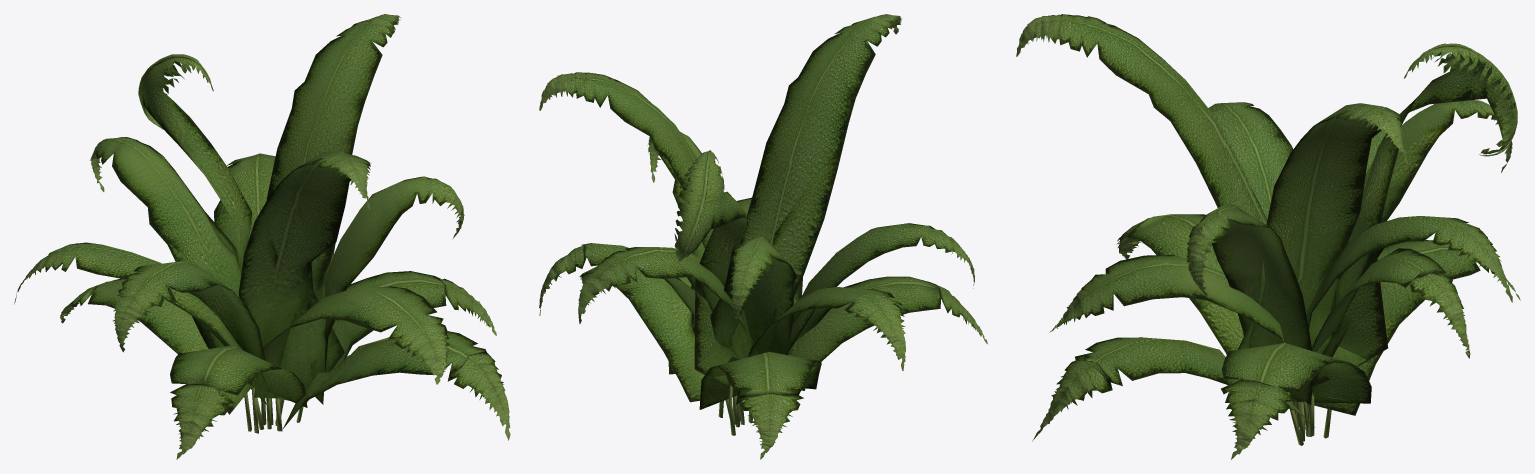
3 views of the same model, side by side, from view 1: azimuth 30°, elevation 25°; view 2: azimuth 150°, elevation 25°; view 3: azimuth 270°, elevation 25° (orthographic). The views are drawn at different scales.
Parts seen in each view (by area): view 1: tripo_node_5ec6441a-baa4-43f4-a256-e192a91ad30a; view 2: tripo_node_5ec6441a-baa4-43f4-a256-e192a91ad30a; view 3: tripo_node_5ec6441a-baa4-43f4-a256-e192a91ad30a.
Part boxes in pixels (x1=…): tripo_node_5ec6441a-baa4-43f4-a256-e192a91ad30a: x1=14, y1=14, x2=510, y2=459; tripo_node_5ec6441a-baa4-43f4-a256-e192a91ad30a: x1=539, y1=14, x2=987, y2=459; tripo_node_5ec6441a-baa4-43f4-a256-e192a91ad30a: x1=1016, y1=14, x2=1520, y2=459.
Size of the model in its own units: 0.998 by 0.8379 by 0.959.
1 material, 1 textured.
